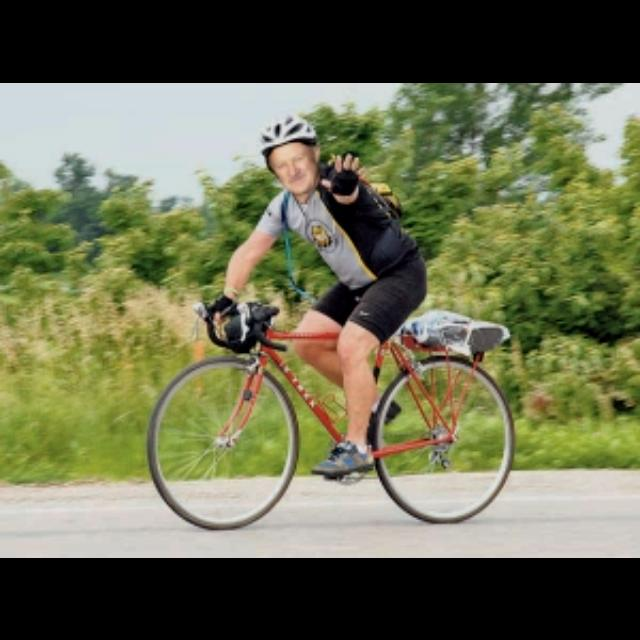With Helmet: (252, 107, 324, 197)
